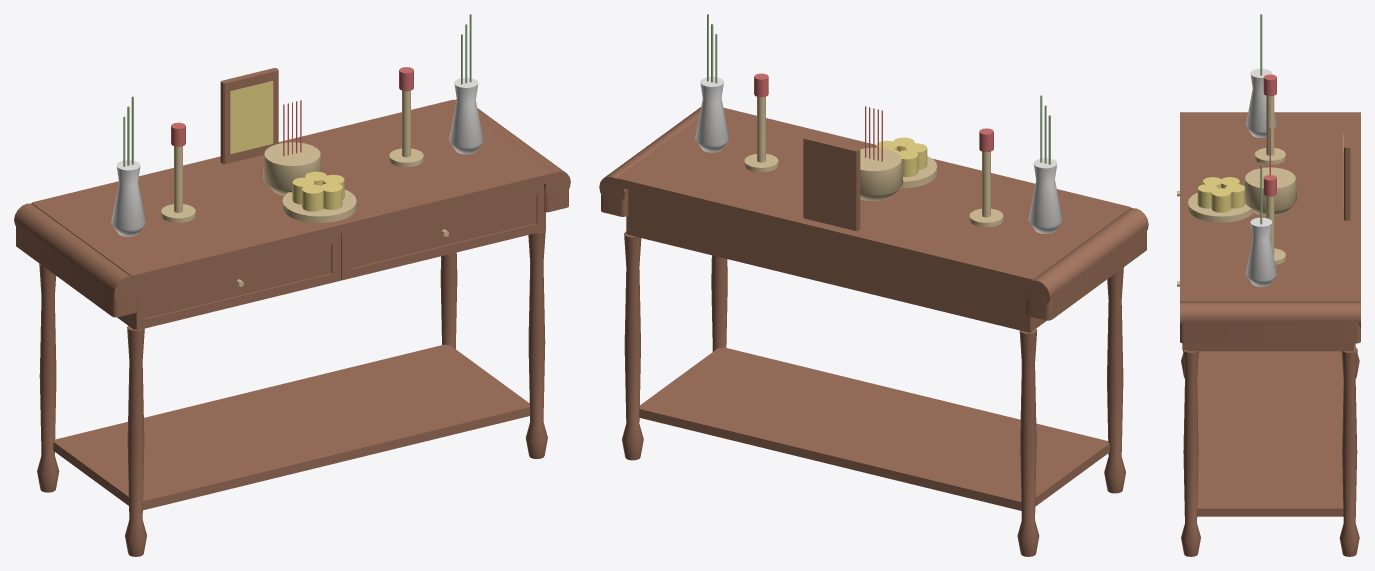
3 renders of one model, left to right at view 1: azimuth 30°, elevation 25°; view 2: azimuth 150°, elevation 25°; view 3: azimuth 270°, elevation 25°, orthographic. The views are drawn at different scales.
Visible parts, largest first — view 1: Bàn thờ Dài=1970; Sâu=810; view 2: Bàn thờ Dài=1970; Sâu=810; view 3: Bàn thờ Dài=1970; Sâu=810.
Part boxes in pixels (<box>): Bàn thờ Dài=1970; Sâu=810: <box>14,14,570,556</box>; Bàn thờ Dài=1970; Sâu=810: <box>599,14,1148,556</box>; Bàn thờ Dài=1970; Sâu=810: <box>1177,14,1360,556</box>.
Size of the model in its own units: 2.13 by 1.87 by 0.822.
